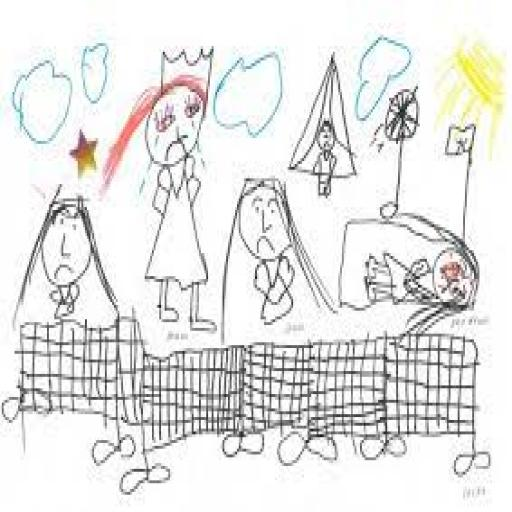person: (104, 49, 215, 330), (221, 179, 332, 342), (341, 213, 479, 333), (13, 190, 117, 325), (290, 58, 356, 195)
